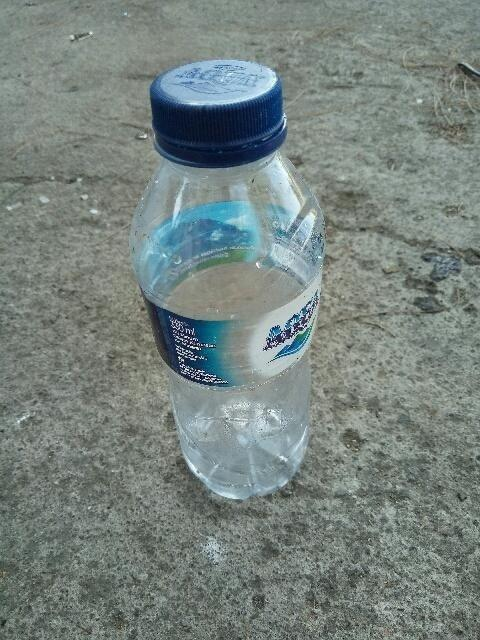bottle-plastic: (128, 58, 326, 502)
